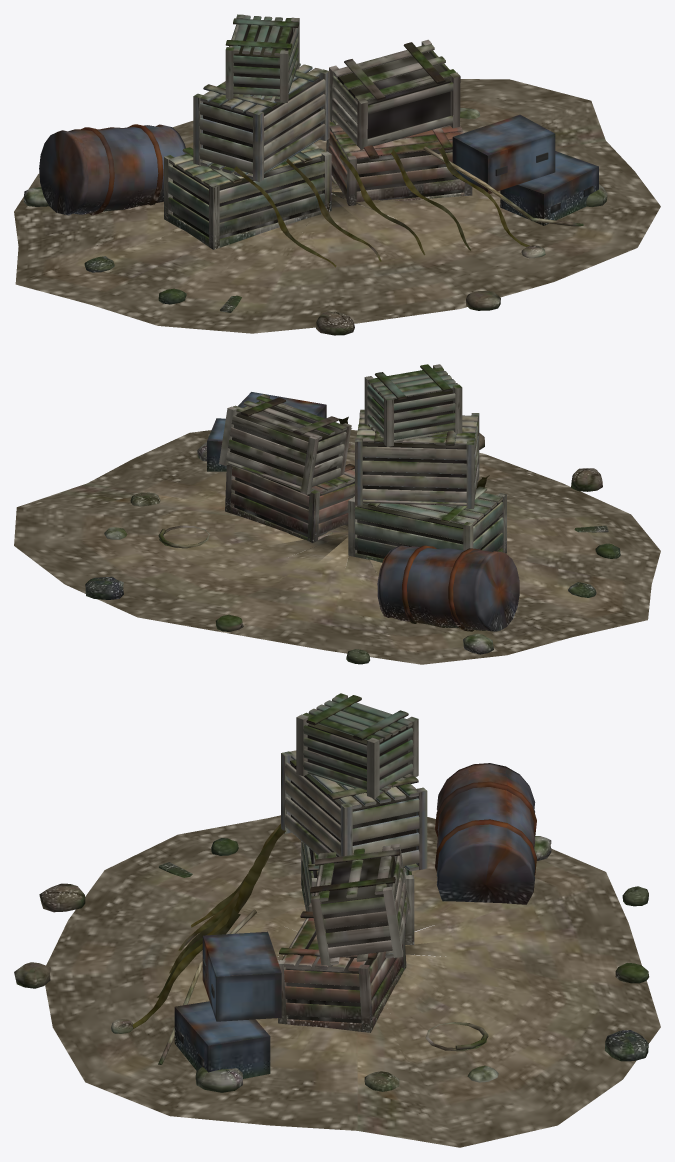
File: kit_crate_stack_hero.glb
3 views of the same model, one above another, from view 1: azimuth 30°, elevation 25°; view 2: azimuth 150°, elevation 25°; view 3: azimuth 270°, elevation 25° (orthographic). The views are drawn at different scales.
Parts seen in each view (by area): view 1: body, crate_1, drum, crate_3, crate_4, crate_2, crate_7, crate_5, crate_6; view 2: body, drum, crate_3, crate_4, crate_1, crate_2, crate_5, crate_6, crate_7; view 3: body, drum, crate_3, crate_4, crate_5, crate_2, crate_7, crate_6, crate_1.
Boxes of the visible parts, bbox=[...] form: body: bbox=[14, 79, 660, 335]; crate_1: bbox=[164, 143, 331, 249]; drum: bbox=[39, 124, 186, 215]; crate_3: bbox=[193, 63, 329, 182]; crate_4: bbox=[329, 39, 460, 150]; crate_2: bbox=[326, 122, 472, 209]; crate_7: bbox=[452, 114, 555, 193]; crate_5: bbox=[225, 14, 299, 102]; crate_6: bbox=[500, 151, 598, 225]; body: bbox=[14, 416, 660, 664]; drum: bbox=[377, 545, 519, 631]; crate_3: bbox=[355, 409, 479, 508]; crate_4: bbox=[219, 394, 351, 494]; crate_1: bbox=[348, 486, 506, 571]; crate_2: bbox=[225, 464, 354, 548]; crate_5: bbox=[364, 364, 462, 446]; crate_6: bbox=[207, 418, 226, 471]; crate_7: bbox=[238, 392, 326, 418]; body: bbox=[14, 815, 660, 1147]; drum: bbox=[435, 763, 536, 904]; crate_3: bbox=[281, 750, 427, 872]; crate_4: bbox=[310, 843, 410, 965]; crate_5: bbox=[296, 693, 418, 799]; crate_2: bbox=[277, 903, 406, 1032]; crate_7: bbox=[202, 931, 281, 1021]; crate_6: bbox=[174, 1001, 270, 1078]; crate_1: bbox=[301, 841, 414, 954].
Size of what is drawn, in the model's own units: 5.02 by 1.57 by 3.93.
Materials: 2 (2 with a texture image).
